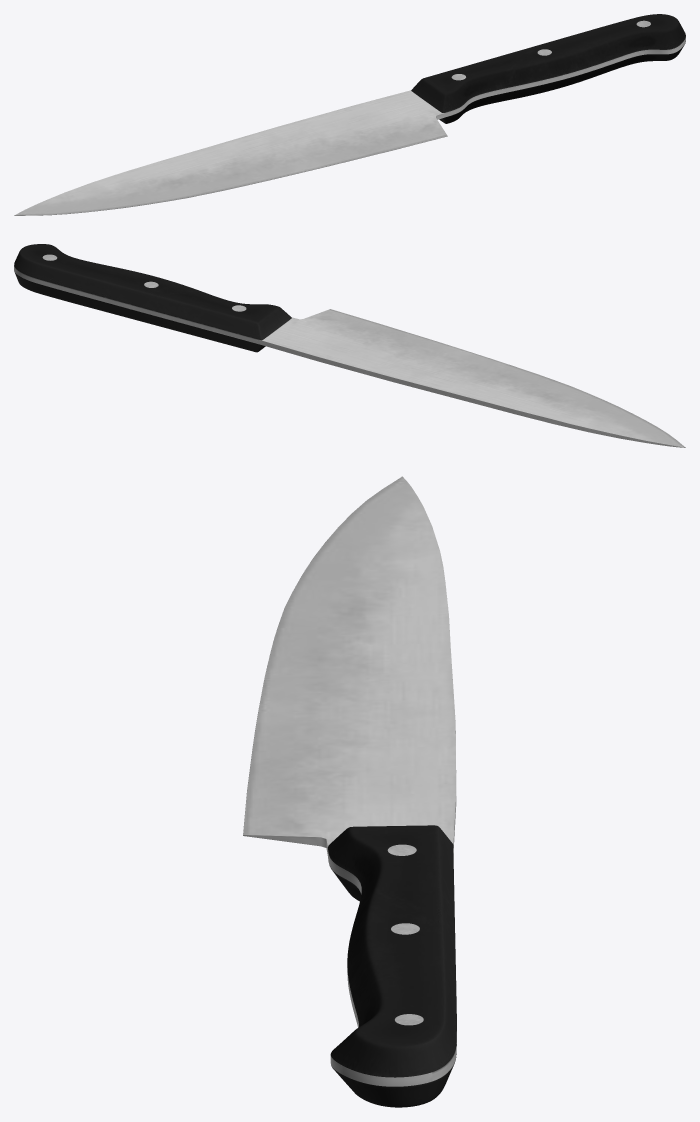
The model's file is cutting_knife.glb.
3 renders of one model, top to bottom at view 1: azimuth 30°, elevation 25°; view 2: azimuth 150°, elevation 25°; view 3: azimuth 270°, elevation 25°, orthographic. The views are drawn at different scales.
Parts seen in each view (by area): view 1: Knife; view 2: Knife; view 3: Knife.
Boxes of the visible parts, x1,y1,x2,y2 form: Knife: [14, 14, 685, 215]; Knife: [14, 244, 685, 447]; Knife: [243, 476, 456, 1107].
Bounding box in the file's own units: 0.3093 × 0.0171 × 0.043.
Materials: 1 (1 with a texture image).
